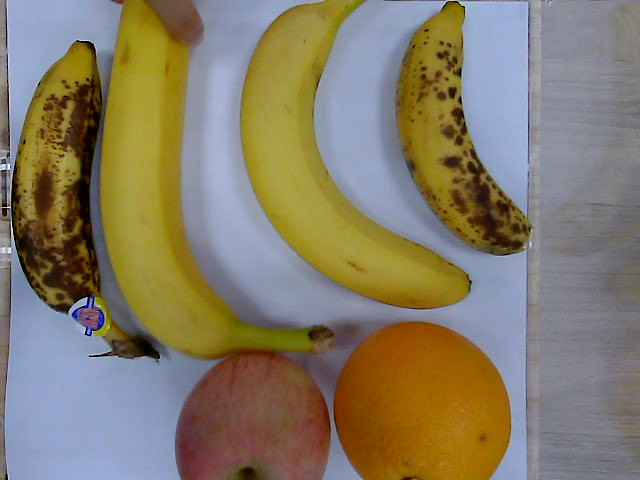fresh_apple: (176, 352, 330, 480)
fresh_banana: (241, 3, 473, 309), (100, 1, 240, 358)
fresh_orange: (333, 322, 513, 480)
rotten_banana: (8, 42, 157, 367), (396, 1, 534, 259)
